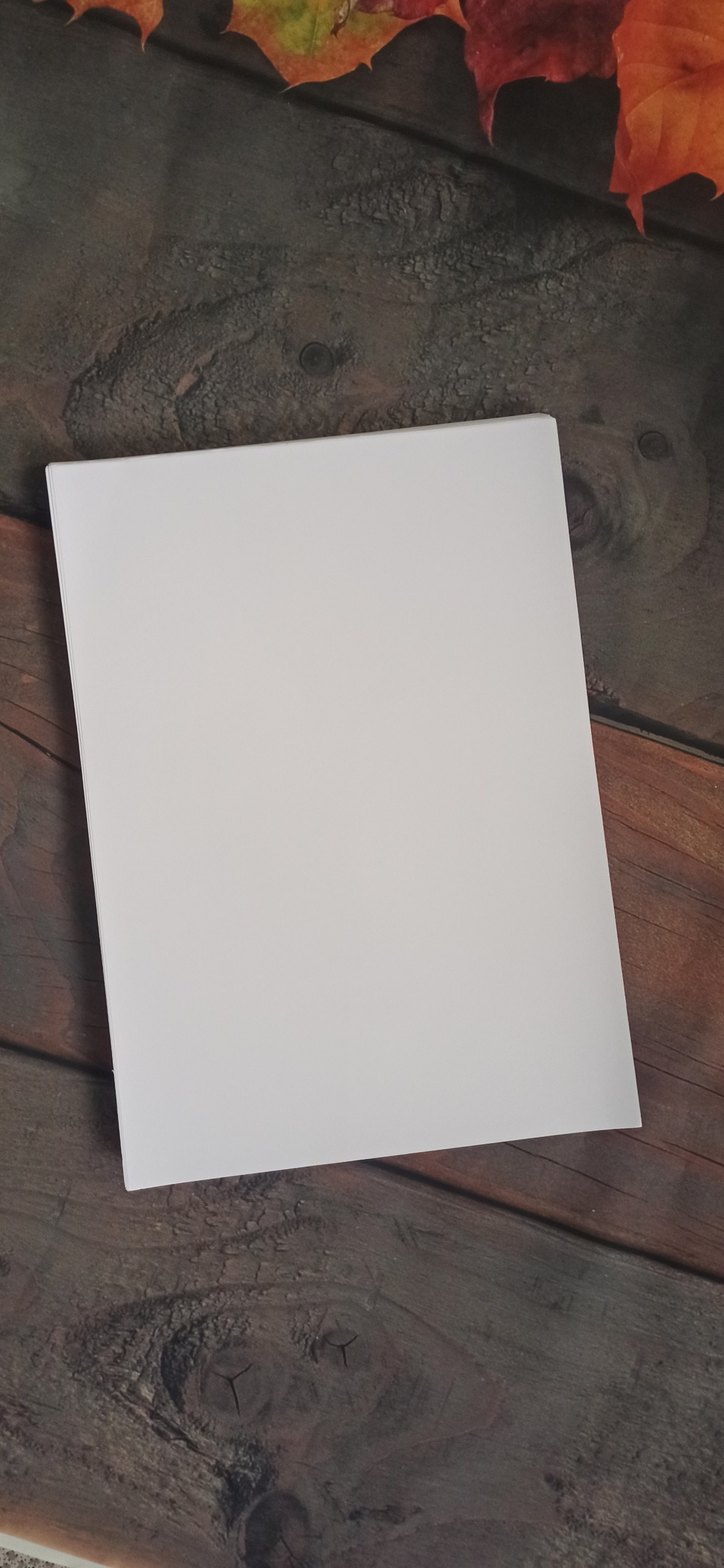paper: (44, 412, 642, 1196)
